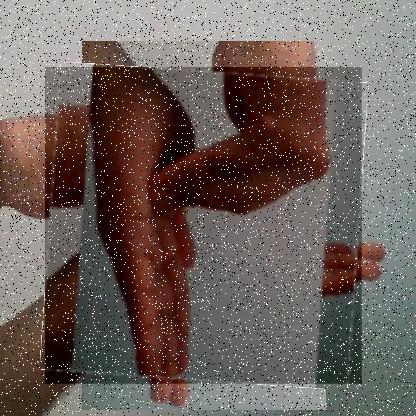Z: (45, 67, 363, 385)
